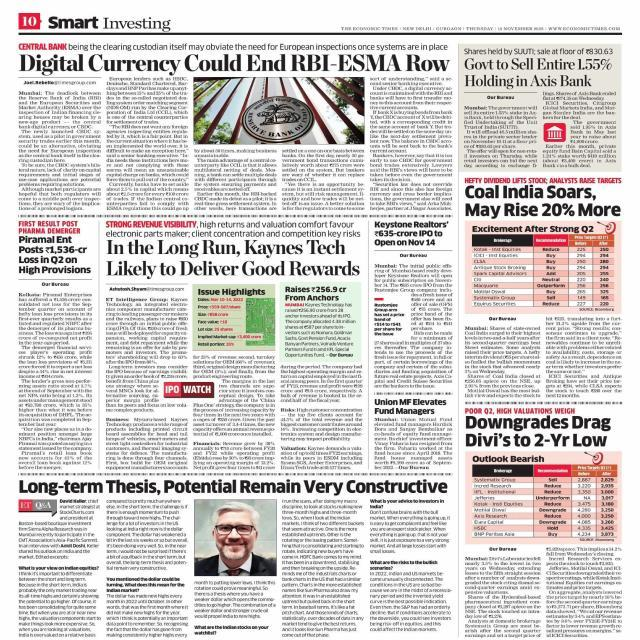Article: (17, 41, 456, 217), (15, 479, 459, 640), (102, 218, 364, 476), (460, 406, 625, 640), (463, 173, 626, 401), (14, 217, 98, 476), (460, 45, 620, 170), (370, 217, 455, 393), (372, 392, 456, 474)
Body: (105, 296, 188, 471), (17, 292, 92, 471), (282, 498, 364, 640), (369, 77, 454, 211), (106, 77, 189, 211), (18, 91, 102, 211), (192, 354, 276, 471), (280, 364, 363, 471), (546, 546, 622, 640), (464, 555, 542, 640), (546, 316, 622, 398), (105, 498, 189, 572), (542, 90, 618, 168), (17, 571, 102, 640), (464, 326, 542, 398), (280, 147, 366, 211), (194, 147, 278, 210), (368, 571, 454, 632), (18, 498, 100, 560), (463, 104, 538, 168), (374, 417, 454, 470), (105, 593, 189, 640), (372, 341, 454, 388), (368, 511, 452, 554), (193, 579, 276, 619), (374, 264, 454, 292), (411, 292, 454, 340)
Date: (466, 26, 544, 31)
Heading: (106, 238, 362, 280), (18, 52, 450, 76), (17, 480, 449, 496), (464, 184, 622, 219), (465, 416, 613, 448), (464, 57, 612, 87), (16, 235, 92, 275), (374, 220, 450, 247), (373, 398, 446, 416)
Highlights: (283, 286, 358, 358), (104, 220, 362, 238), (18, 42, 448, 52), (197, 288, 267, 348), (105, 576, 186, 592), (464, 176, 622, 184), (464, 48, 614, 56), (471, 224, 595, 233), (191, 622, 270, 636), (374, 302, 406, 336), (19, 220, 82, 234), (466, 407, 576, 415), (369, 498, 445, 509), (370, 559, 438, 570), (472, 455, 545, 463), (18, 565, 98, 571)
Image: (194, 78, 365, 145), (472, 464, 618, 538), (472, 236, 615, 306), (195, 500, 276, 577)
Name: (46, 15, 171, 33), (340, 26, 398, 31)
